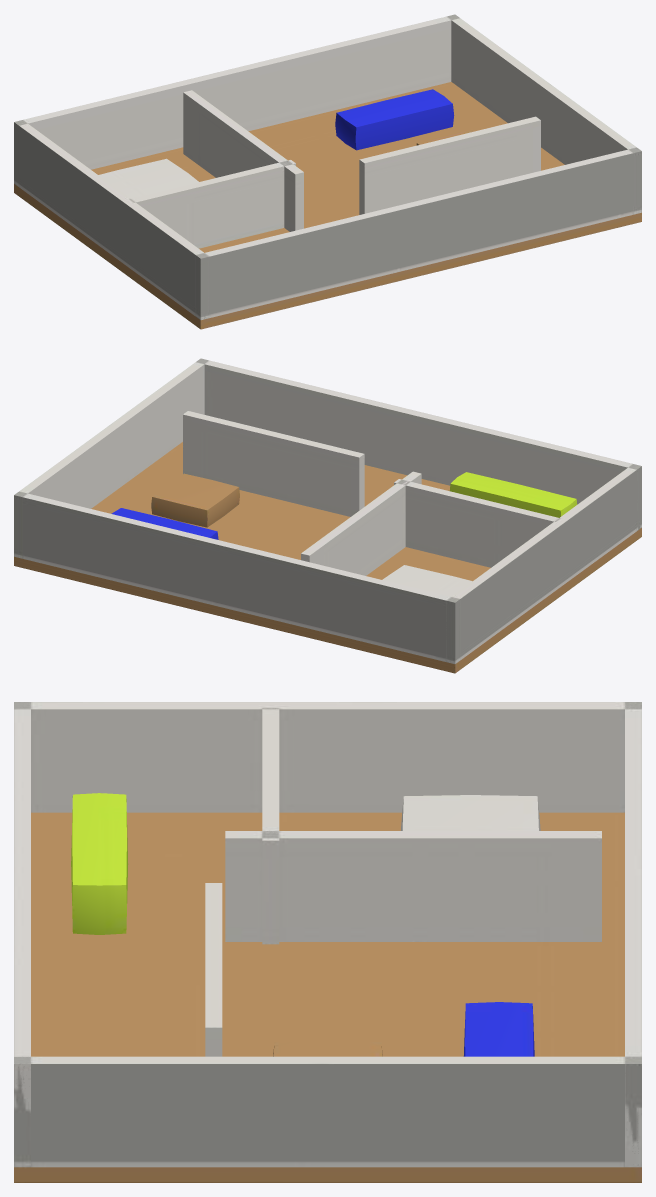
Rendered from interior.glb.
3 views of the same model, one above another, from view 1: azimuth 30°, elevation 25°; view 2: azimuth 150°, elevation 25°; view 3: azimuth 270°, elevation 25° (orthographic). The views are drawn at different scales.
Parts seen in each view (by area): view 1: interior; view 2: interior; view 3: interior.
Boxes of the visible parts, left/top/right/bottom form: interior: left=14, top=14, right=641, bottom=329; interior: left=14, top=358, right=641, bottom=673; interior: left=14, top=702, right=641, bottom=1182.
Bounding box in the file's own units: 0.3 × 0.046 × 0.22.
1 material, 1 textured.
